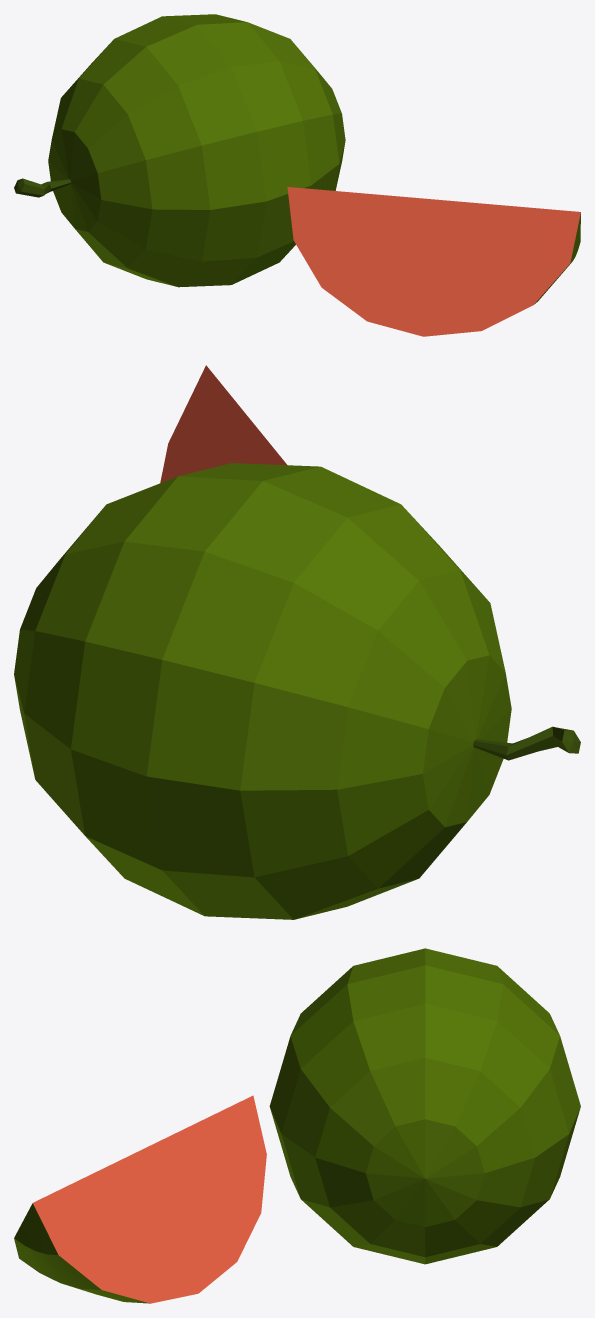
Rendered from Watermelon.fbx.
3 renders of one model, top to bottom at view 1: azimuth 30°, elevation 25°; view 2: azimuth 150°, elevation 25°; view 3: azimuth 270°, elevation 25°, orthographic. The views are drawn at different scales.
Visible parts, largest first — view 1: Watermelon; view 2: Watermelon; view 3: Watermelon.
Boxes of the visible parts, x1,y1,x2,y2 form: Watermelon: (14, 14, 580, 336); Watermelon: (14, 365, 580, 919); Watermelon: (14, 948, 580, 1303).
Size of the model in its own units: 10.67 by 6.34 by 11.54.
